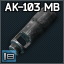AK-103 7.62x39 muzzle brake & compensator: (0, 0, 64, 64)
